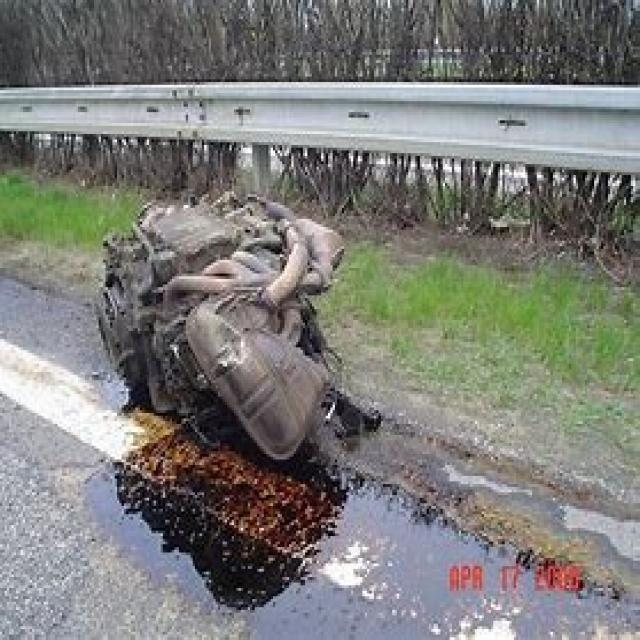Accident: (74, 103, 586, 582)
